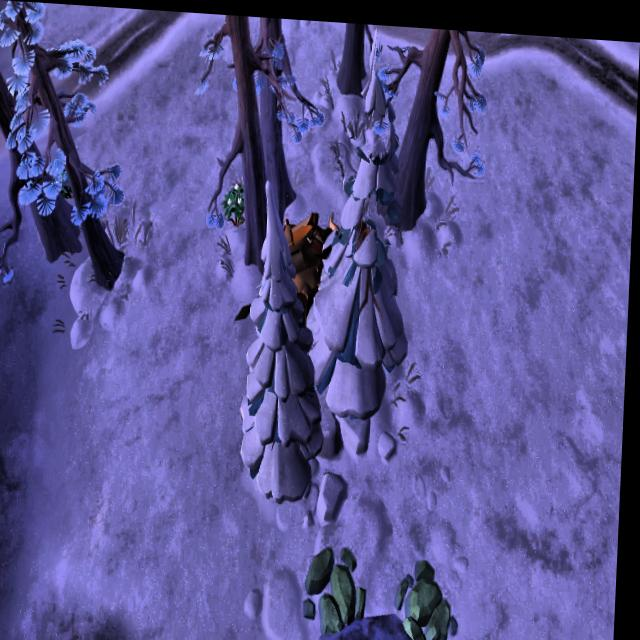fiber_t3: (224, 176, 252, 223)
rock_t3: (306, 533, 375, 635), (398, 552, 463, 640)
